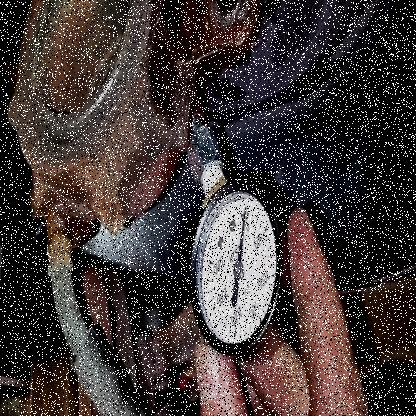needle: (238, 207, 246, 262)
